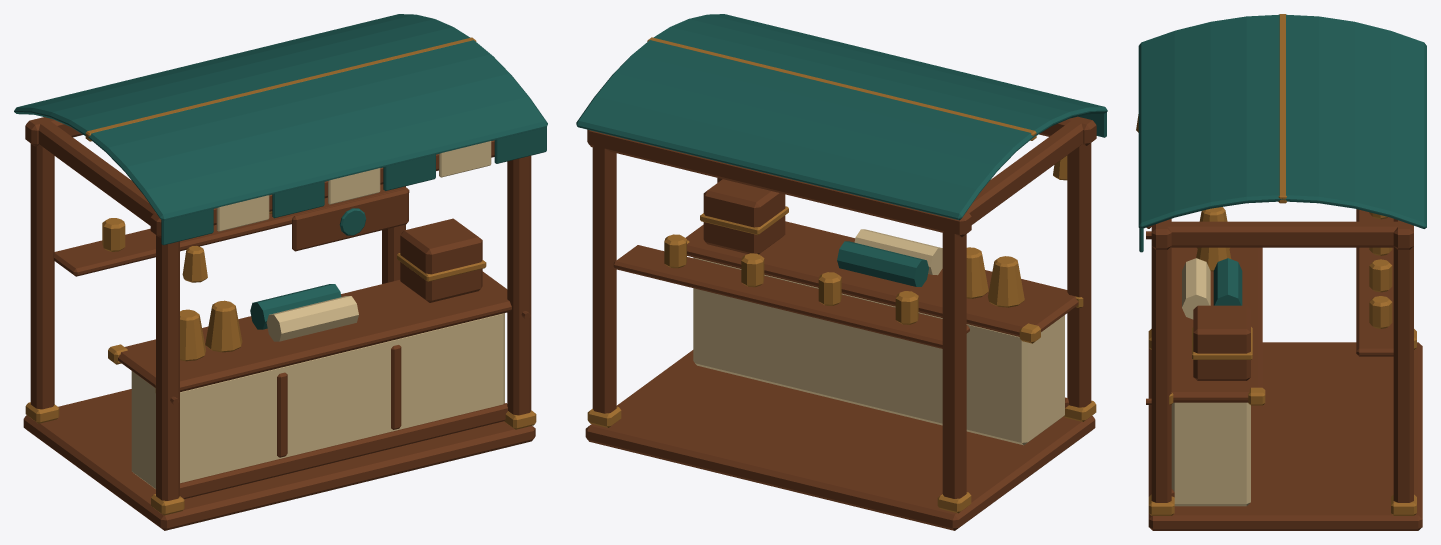
The model's file is vendor_stall.obj.
The picture shows the model from 3 angles, left to right: view 1: azimuth 30°, elevation 25°; view 2: azimuth 150°, elevation 25°; view 3: azimuth 270°, elevation 25°; orthographic projection. The views are drawn at different scales.
Visible parts, largest first — view 1: vendor_stall; view 2: vendor_stall; view 3: vendor_stall.
Part boxes in pixels (x1,y1,x2,y2): vendor_stall: (14, 14, 547, 530); vendor_stall: (576, 14, 1107, 530); vendor_stall: (1136, 14, 1426, 530).
Size of the model in its own units: 3 by 2.6 by 2.02.
